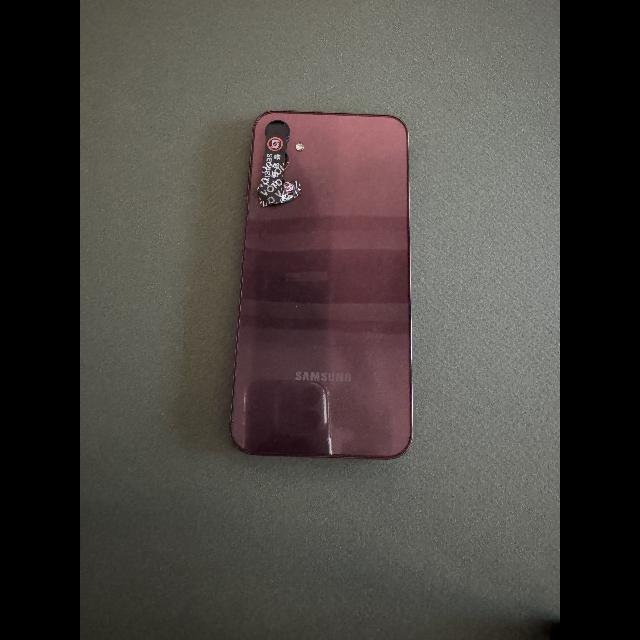lens: (270, 121, 291, 141)
phone: (230, 111, 413, 459)
sticker: (258, 125, 287, 202), (257, 180, 300, 208)
